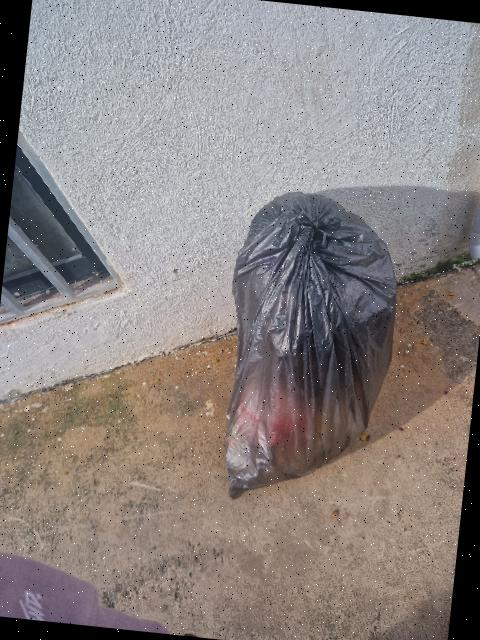Recyclable -Grey-: (225, 193, 396, 495)
